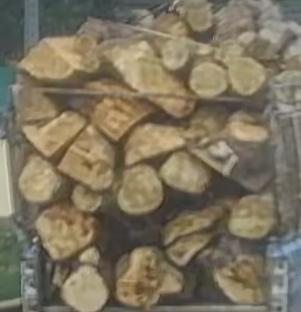large: (105, 41, 194, 118), (72, 81, 151, 139), (202, 241, 267, 307), (117, 247, 182, 311), (60, 126, 115, 192), (163, 208, 221, 267), (37, 205, 92, 260), (125, 124, 188, 167), (24, 111, 85, 155), (227, 194, 278, 240), (119, 163, 163, 215), (18, 38, 72, 79), (64, 266, 108, 311), (160, 153, 208, 194), (20, 155, 57, 203), (190, 61, 230, 102), (226, 108, 269, 144), (231, 59, 267, 95), (69, 185, 103, 215), (185, 4, 214, 32), (164, 40, 189, 70)
medium: (79, 246, 102, 266)
